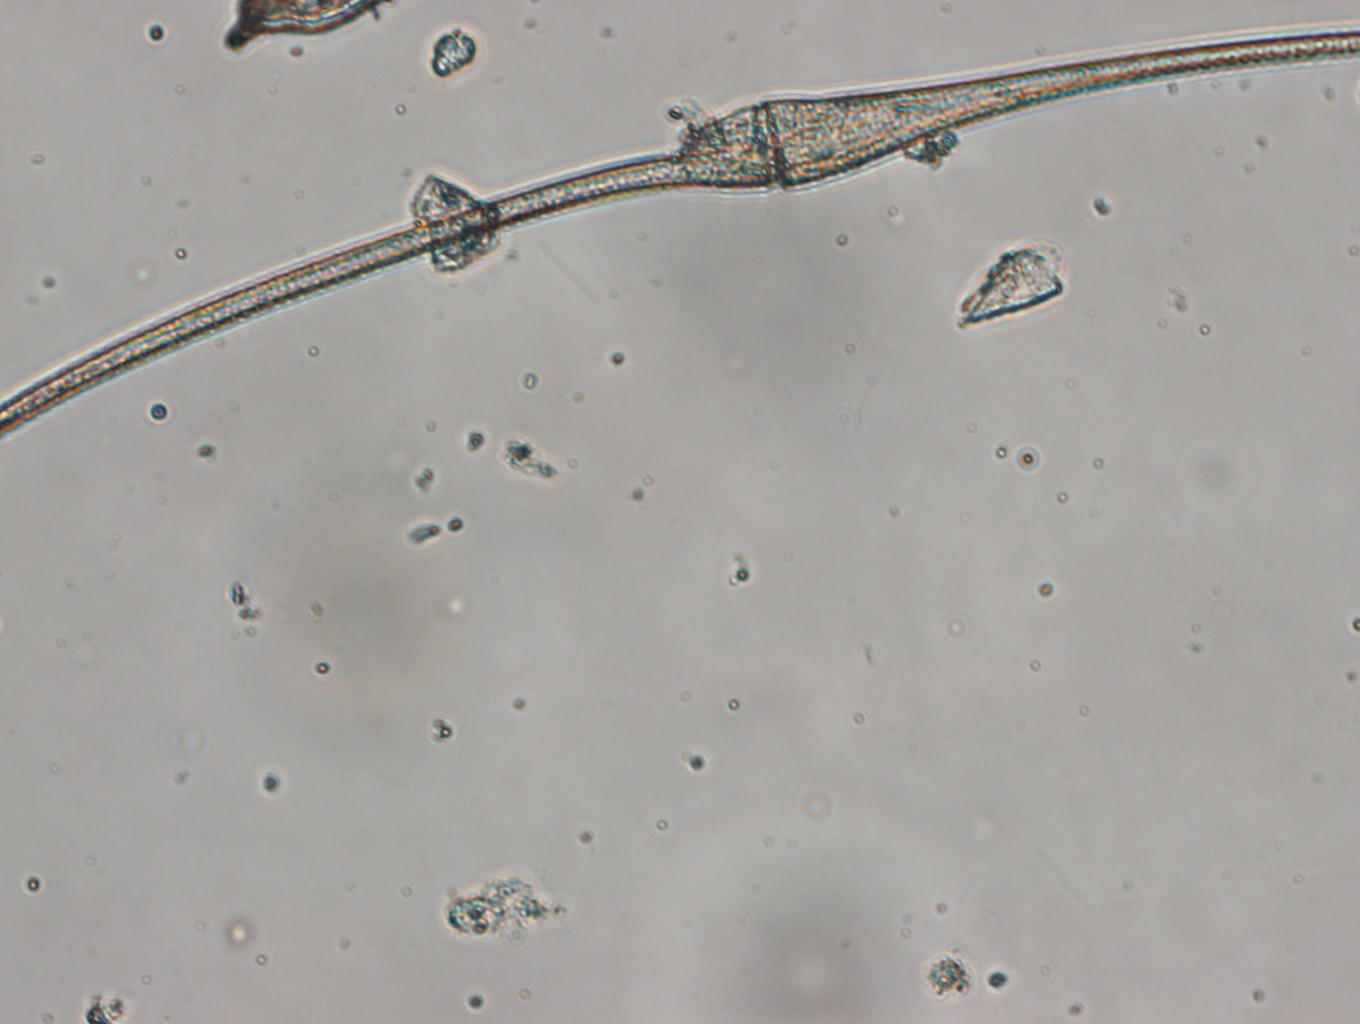ceratium fusus: (1, 31, 1360, 444)
